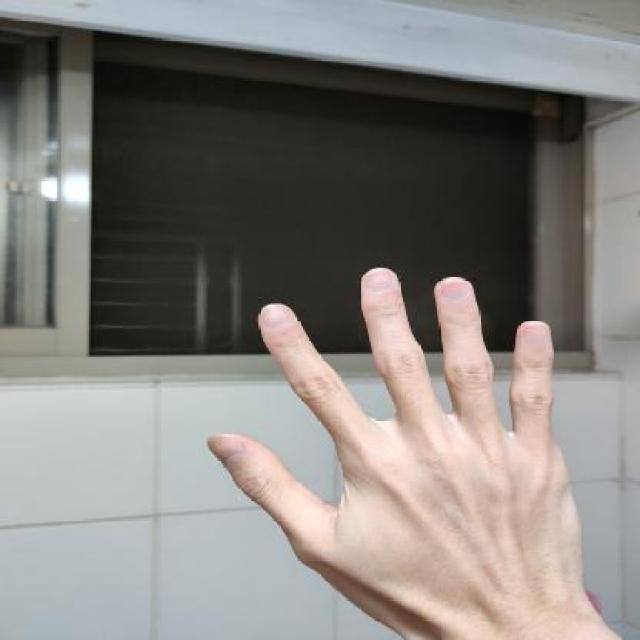bare_hand: (205, 251, 610, 640)
